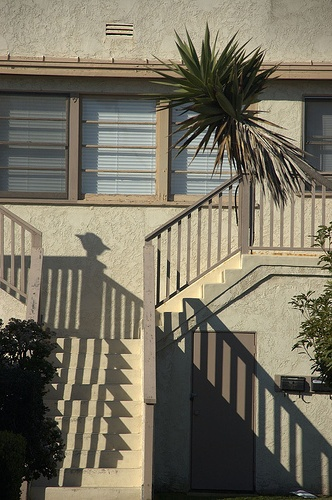stairs_up: (43, 332, 153, 500)
